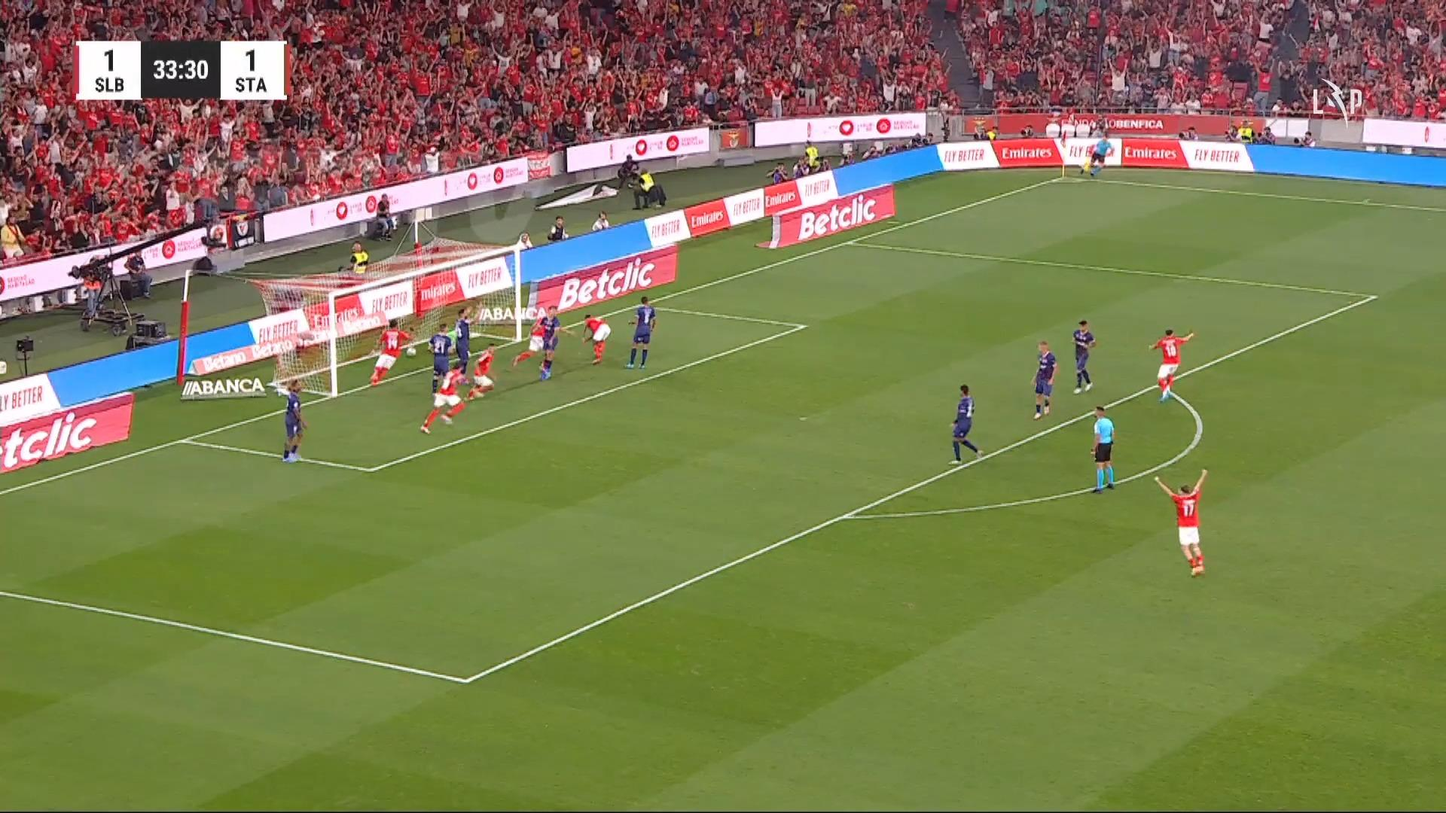ball: (404, 346, 416, 357)
player: (1153, 467, 1209, 577), (511, 304, 573, 380), (1148, 327, 1194, 402), (419, 364, 468, 434), (269, 376, 308, 463), (368, 317, 415, 385), (948, 383, 984, 465), (511, 305, 549, 368), (624, 295, 656, 369), (426, 321, 456, 394), (1030, 340, 1057, 419), (535, 305, 562, 380), (1071, 318, 1096, 393), (465, 342, 496, 400), (452, 306, 474, 377)
referee: (1089, 404, 1115, 492), (1078, 131, 1113, 177)
